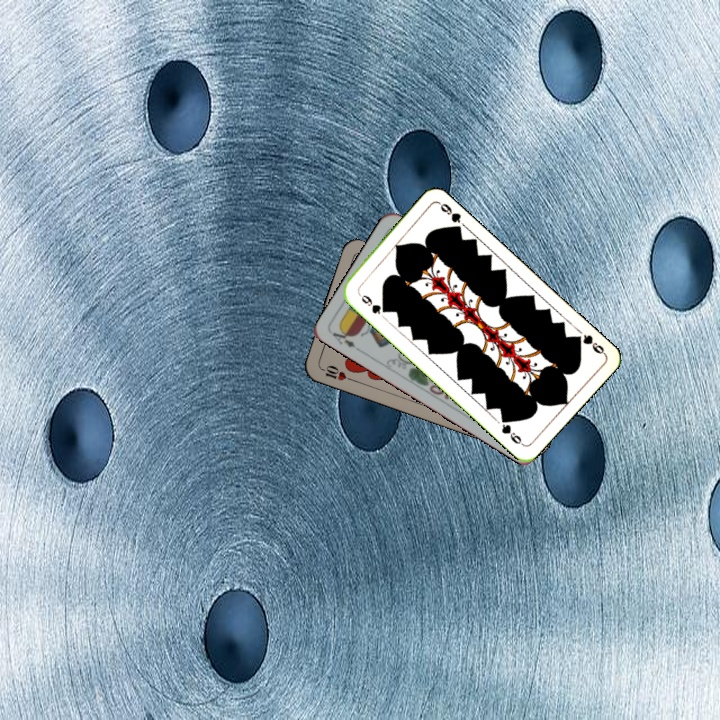EA: (328, 324, 364, 355)
G9: (354, 288, 390, 317), (570, 330, 608, 357)
H10: (316, 361, 356, 384)
